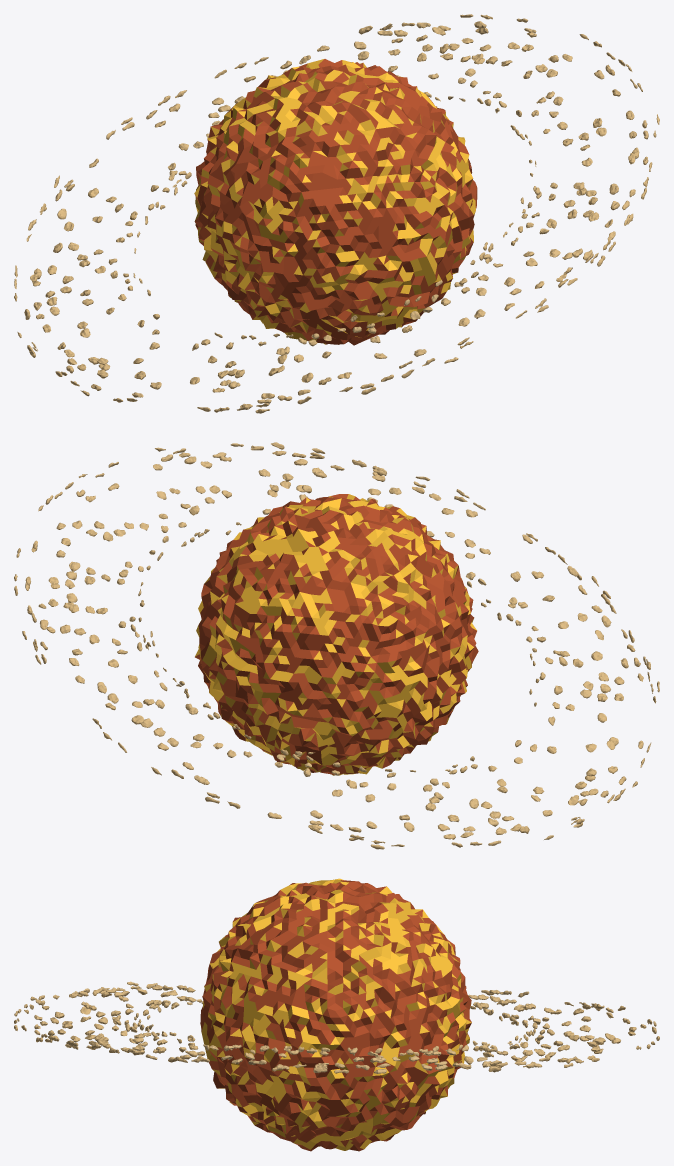
File: saturn0.fbx
3 renders of one model, top to bottom at view 1: azimuth 30°, elevation 25°; view 2: azimuth 150°, elevation 25°; view 3: azimuth 270°, elevation 25°, orthographic. The views are drawn at different scales.
Parts seen in each view (by area): view 1: Saturn V2, Saturn_belt; view 2: Saturn V2, Saturn_belt; view 3: Saturn V2, Saturn_belt.
Boxes of the visible parts, x1,y1,x2,y2 form: Saturn V2: [194, 59, 477, 345]; Saturn_belt: [14, 14, 659, 413]; Saturn V2: [195, 494, 478, 775]; Saturn_belt: [14, 442, 659, 849]; Saturn V2: [200, 878, 471, 1151]; Saturn_belt: [14, 981, 659, 1073].
Size of the model in its own units: 1746 by 765 by 1813.
